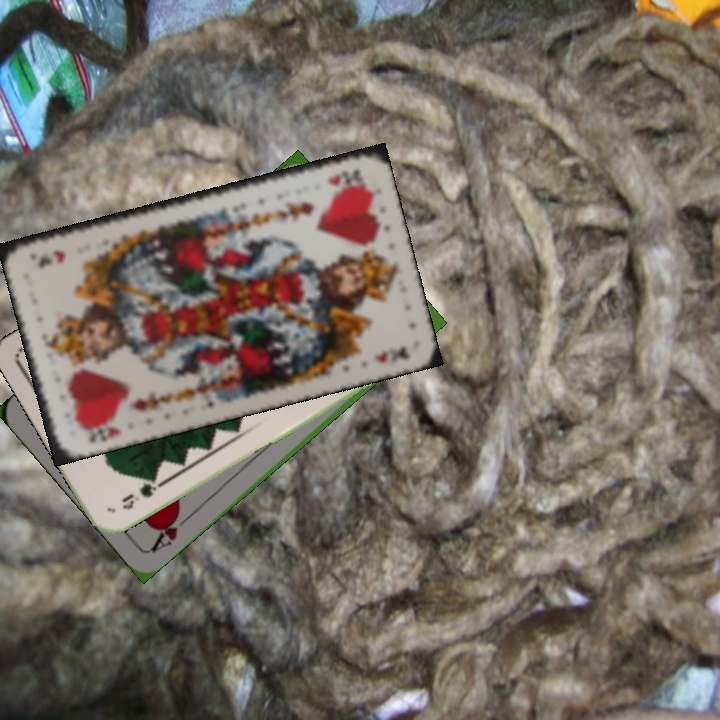G9: (117, 472, 165, 513)
HA: (147, 507, 195, 555)
HK: (75, 422, 122, 447), (325, 164, 365, 190)
